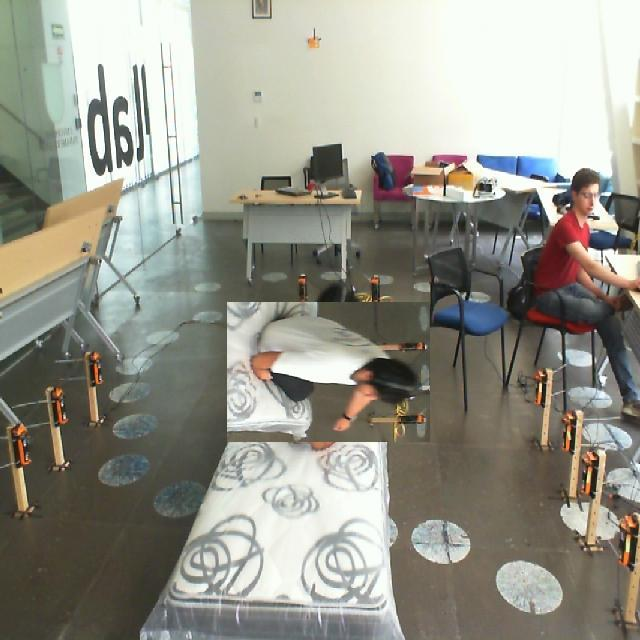Fall: (199, 299, 442, 464)
NotFall: (475, 193, 640, 450)
